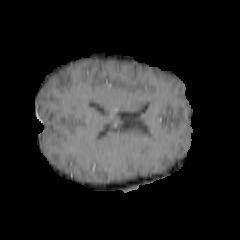glioma: (77, 134, 157, 156)
